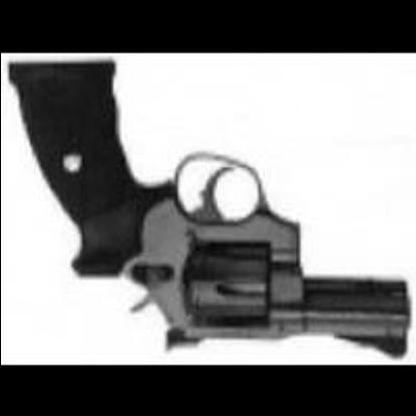weapon: (9, 59, 410, 360)
